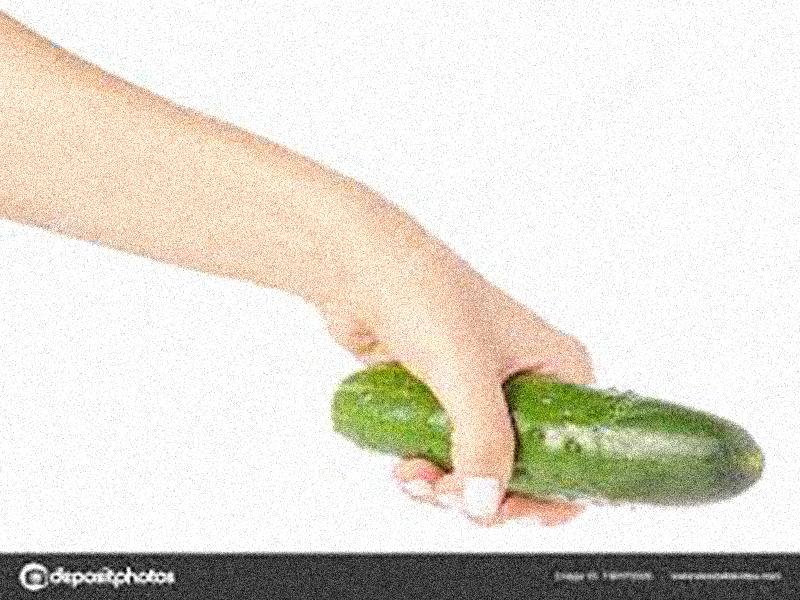Cucumber: (333, 366, 768, 507)
